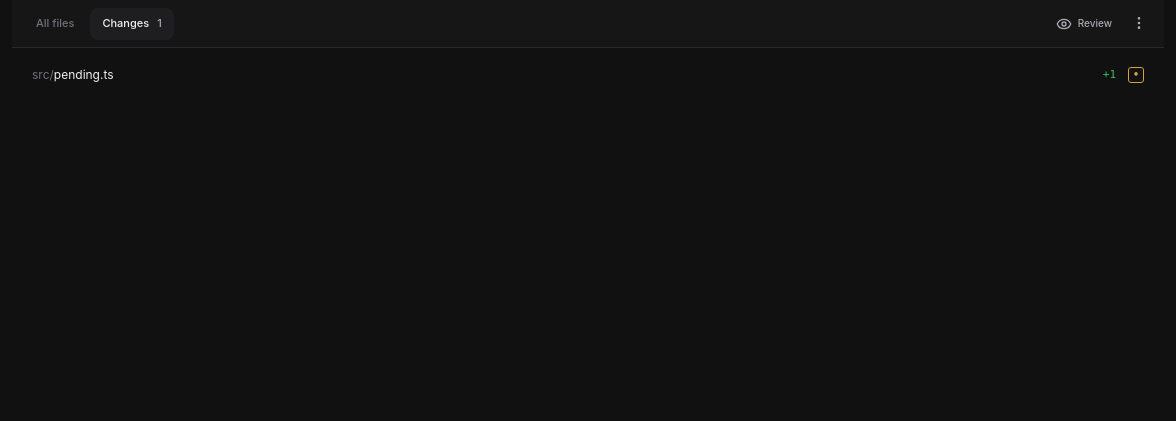
Scenario: DiffPanel file list + diff view › restores the previous target and shows an error when changing the base fails
The image size is (1176, 421).
Check: the button with test id "diff-file-src/pending.ts" is shown, box [12,56,1164,94]
Click the button with test id "git-more" at (1139, 23), box [1126,10,1152,36]
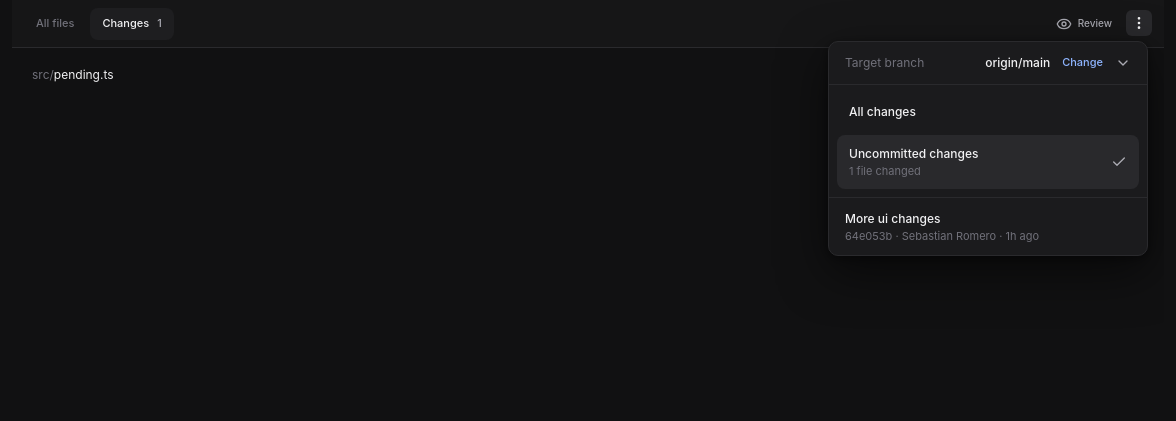
Click the menu item with test id "git-target-branch" at (988, 63), box [829,42,1147,84]
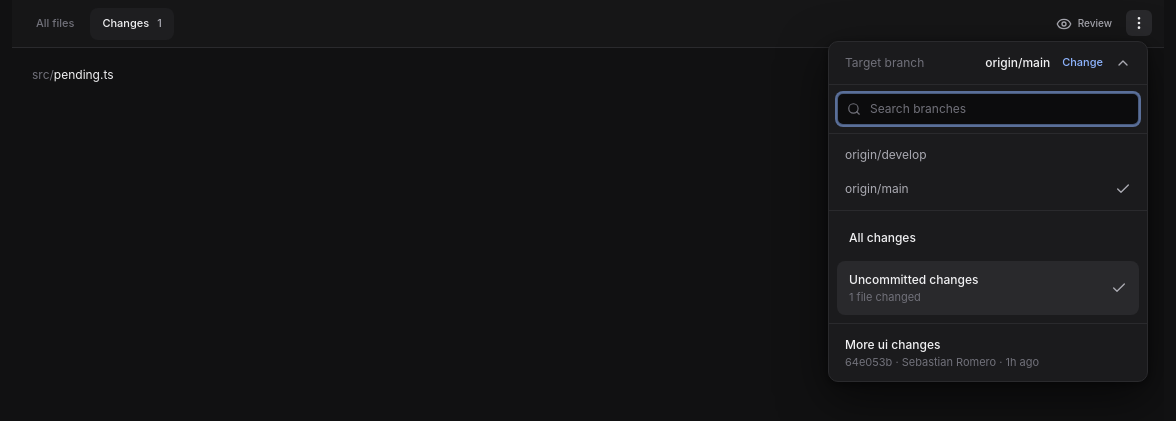
Click the menu item with test id "git-target-option-origin/develop" at (886, 154), box [829,138,1147,172]
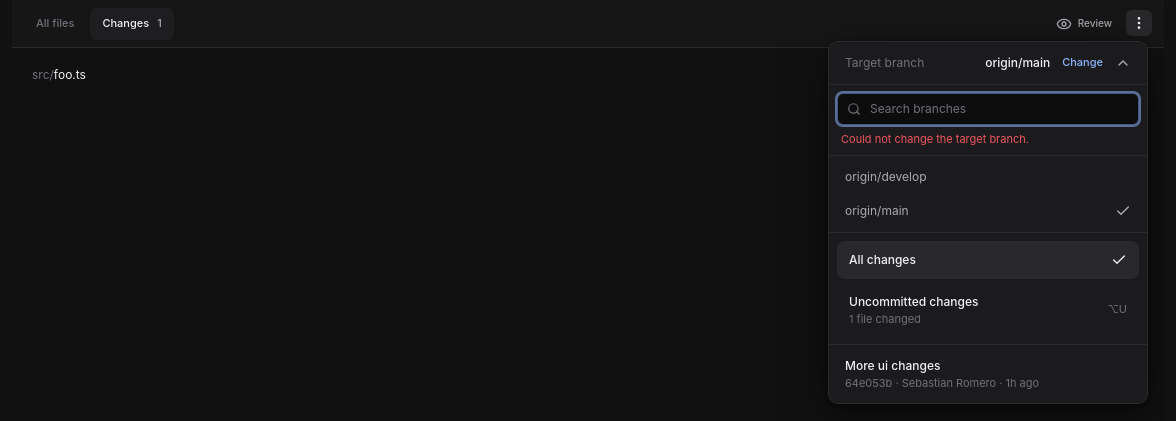
Check: the menu item with test id "git-target-branch" shows "origin/main", box [829,42,1147,84]
Check: the message with test id "git-target-error" reads "Could not change the target branch.", box [841,132,1029,146]
